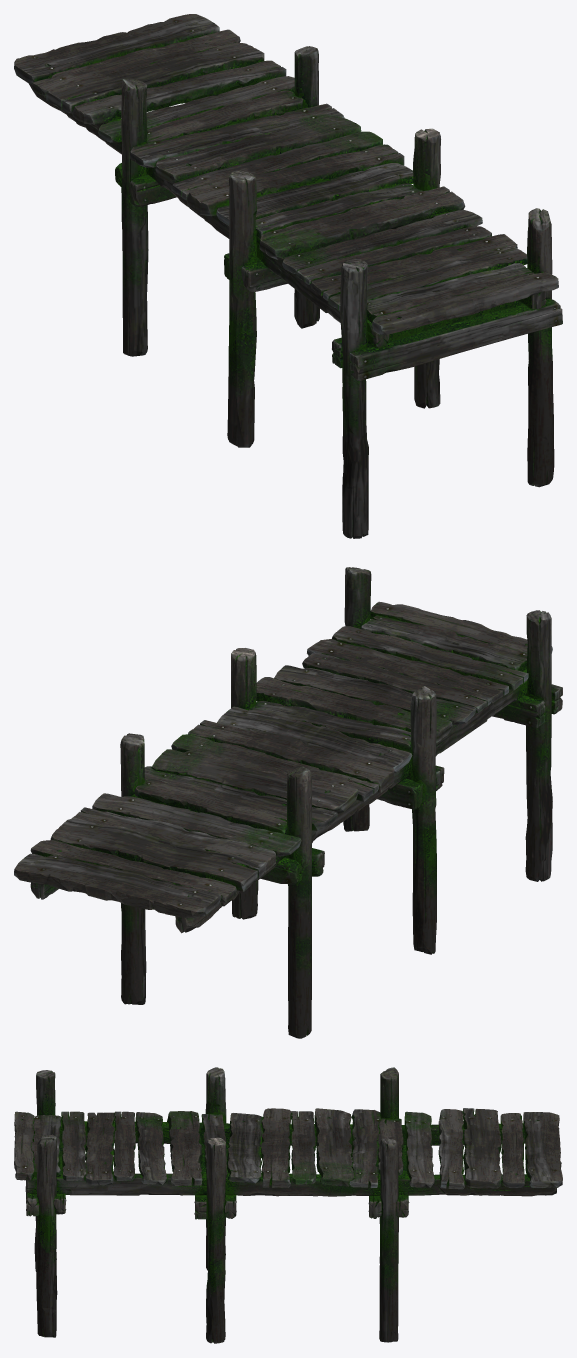
The model's file is Pier.fbx.
3 renders of one model, top to bottom at view 1: azimuth 30°, elevation 25°; view 2: azimuth 150°, elevation 25°; view 3: azimuth 270°, elevation 25°, orthographic. The views are drawn at different scales.
Parts seen in each view (by area): view 1: Pier_LOD0; view 2: Pier_LOD0; view 3: Pier_LOD0.
Boxes of the visible parts, box(x1,y1,x2,y2) form: Pier_LOD0: box(14, 14, 562, 538); Pier_LOD0: box(14, 567, 562, 1038); Pier_LOD0: box(14, 1067, 562, 1343).
Size of what is drawn, in the model's own units: 1.97 by 5.99 by 2.54.
